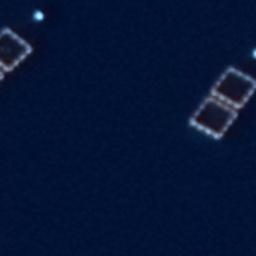square_solid: (188, 95, 240, 145), (210, 64, 256, 112), (1, 24, 34, 75)
